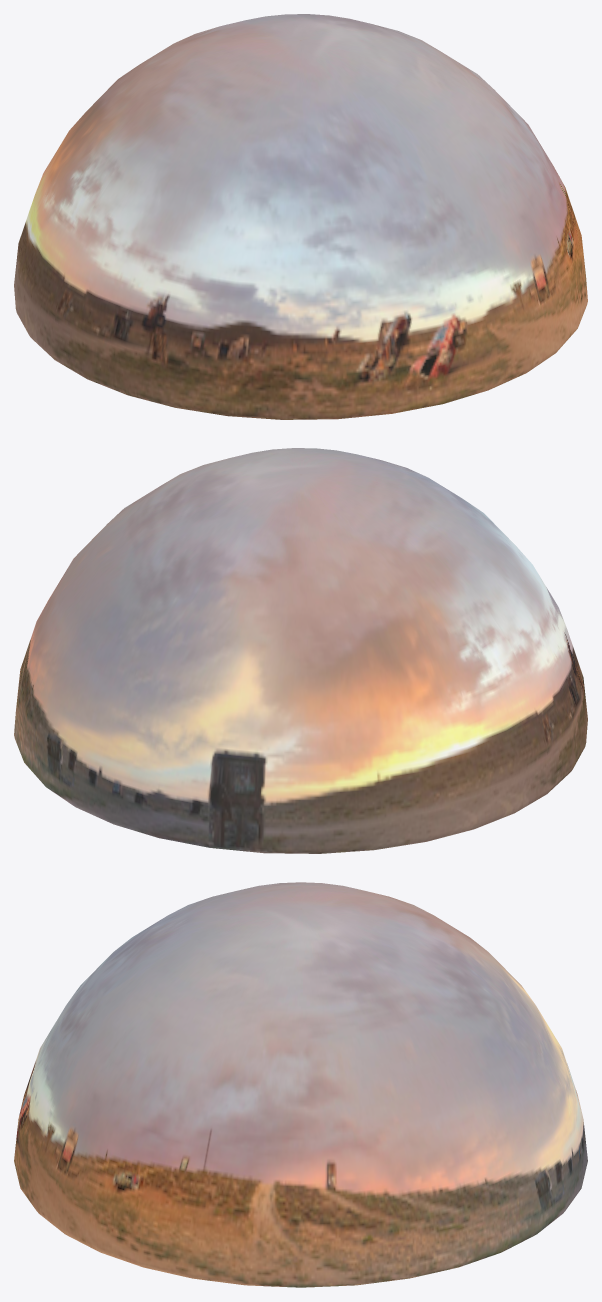
Rendered from dome.glb.
The picture shows the model from 3 angles, top to bottom: view 1: azimuth 30°, elevation 25°; view 2: azimuth 150°, elevation 25°; view 3: azimuth 270°, elevation 25°; orthographic projection.
Visible parts, largest first — view 1: Dome; view 2: Dome; view 3: Dome.
Boxes of the visible parts, <box> form: Dome: <box>14,14,587,419</box>; Dome: <box>14,448,587,853</box>; Dome: <box>14,882,587,1287</box>.
Bounding box in the file's own units: 215 × 108 × 215.
Materials: 1 (1 with a texture image).
